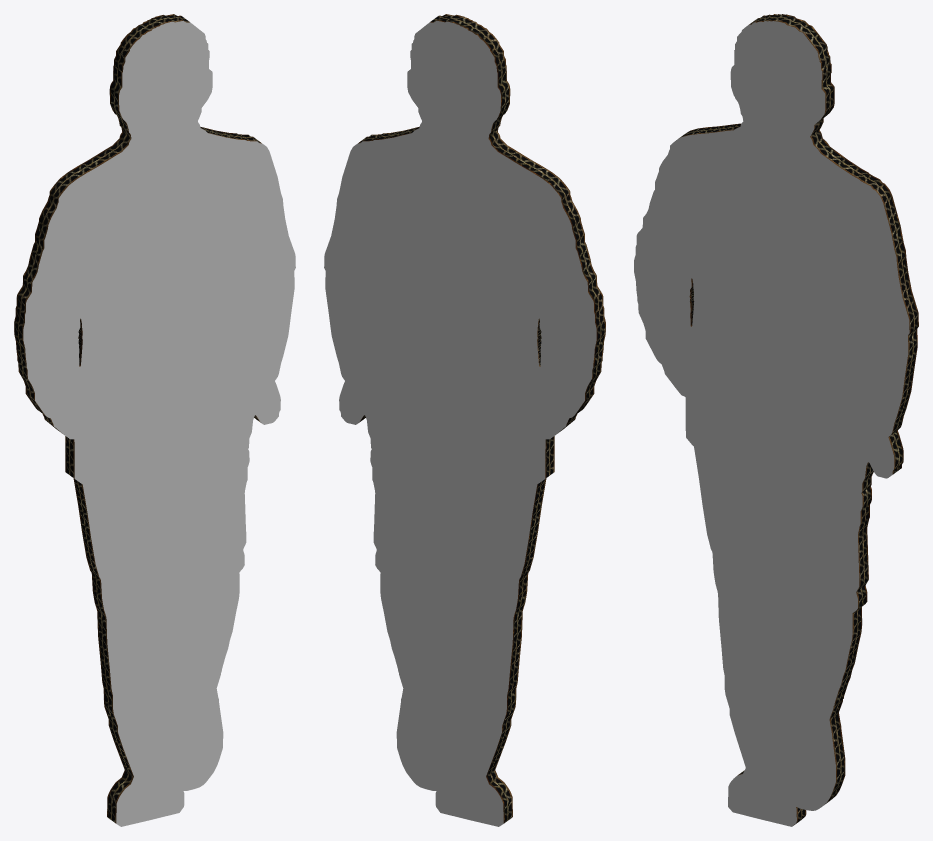
File: NPC_Applicant_Well_Dressed_Upright_Male_Standing.FBX
The picture shows the model from 3 angles, left to right: view 1: azimuth 30°, elevation 25°; view 2: azimuth 150°, elevation 25°; view 3: azimuth 330°, elevation 25°; orthographic projection.
Visible parts, largest first — view 1: NPC_Applicant_Well_Dressed_Upright_Male_Standing_step2; view 2: NPC_Applicant_Well_Dressed_Upright_Male_Standing_step2; view 3: NPC_Applicant_Well_Dressed_Upright_Male_Standing_step2.
Boxes of the visible parts, bbox=[...] form: NPC_Applicant_Well_Dressed_Upright_Male_Standing_step2: bbox=[14, 14, 295, 826]; NPC_Applicant_Well_Dressed_Upright_Male_Standing_step2: bbox=[324, 14, 605, 826]; NPC_Applicant_Well_Dressed_Upright_Male_Standing_step2: bbox=[634, 14, 918, 826].
Bounding box in the file's own units: 24 × 66.75 × 1.42.
